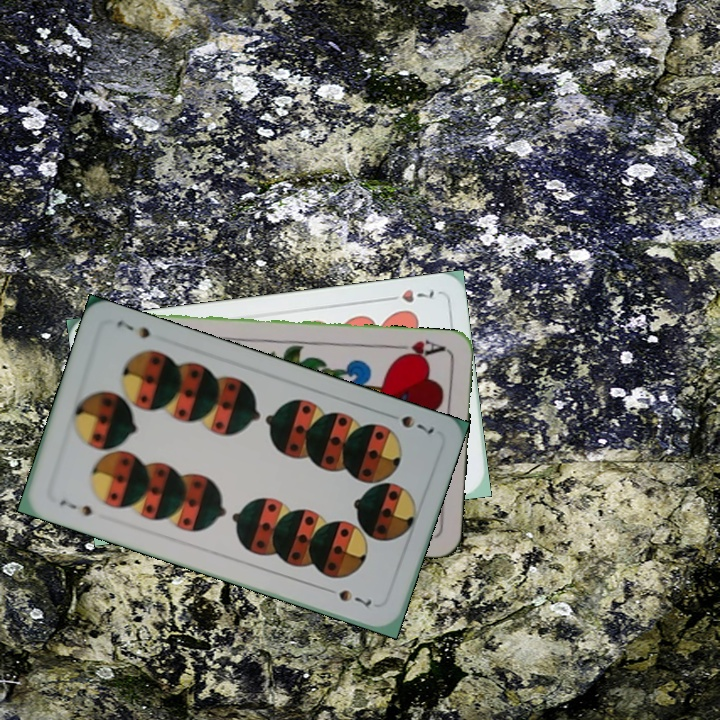H7: (381, 284, 437, 306)
HA: (389, 335, 448, 362)
S7: (397, 411, 437, 437), (55, 495, 95, 519)
